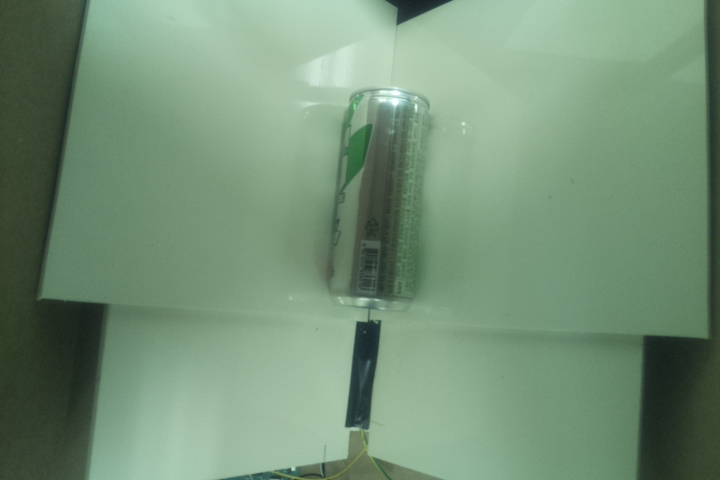can: (324, 83, 435, 312)
